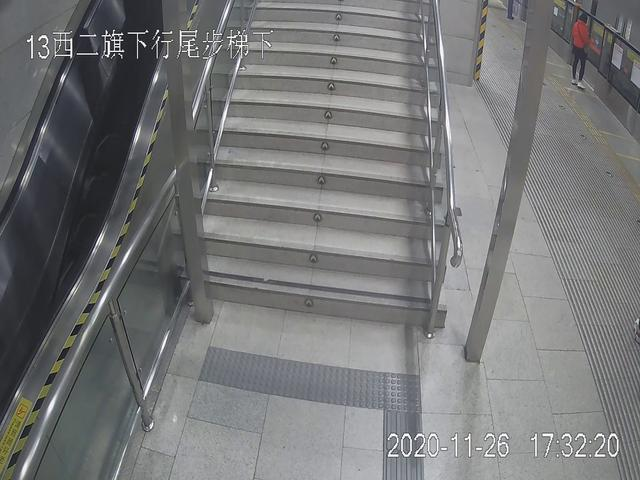person: (563, 10, 603, 90)
